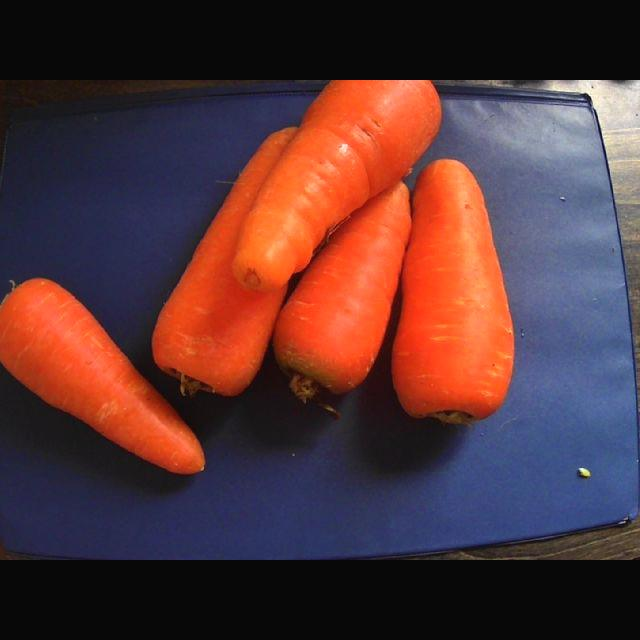zanahoria: (232, 80, 441, 290), (0, 278, 203, 474), (153, 127, 296, 395), (392, 160, 513, 423), (274, 182, 409, 409)
